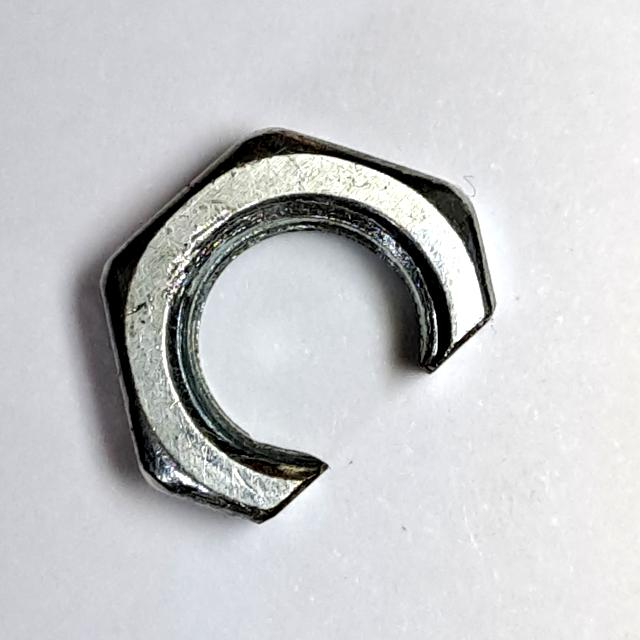Fracture: (87, 117, 519, 537)
